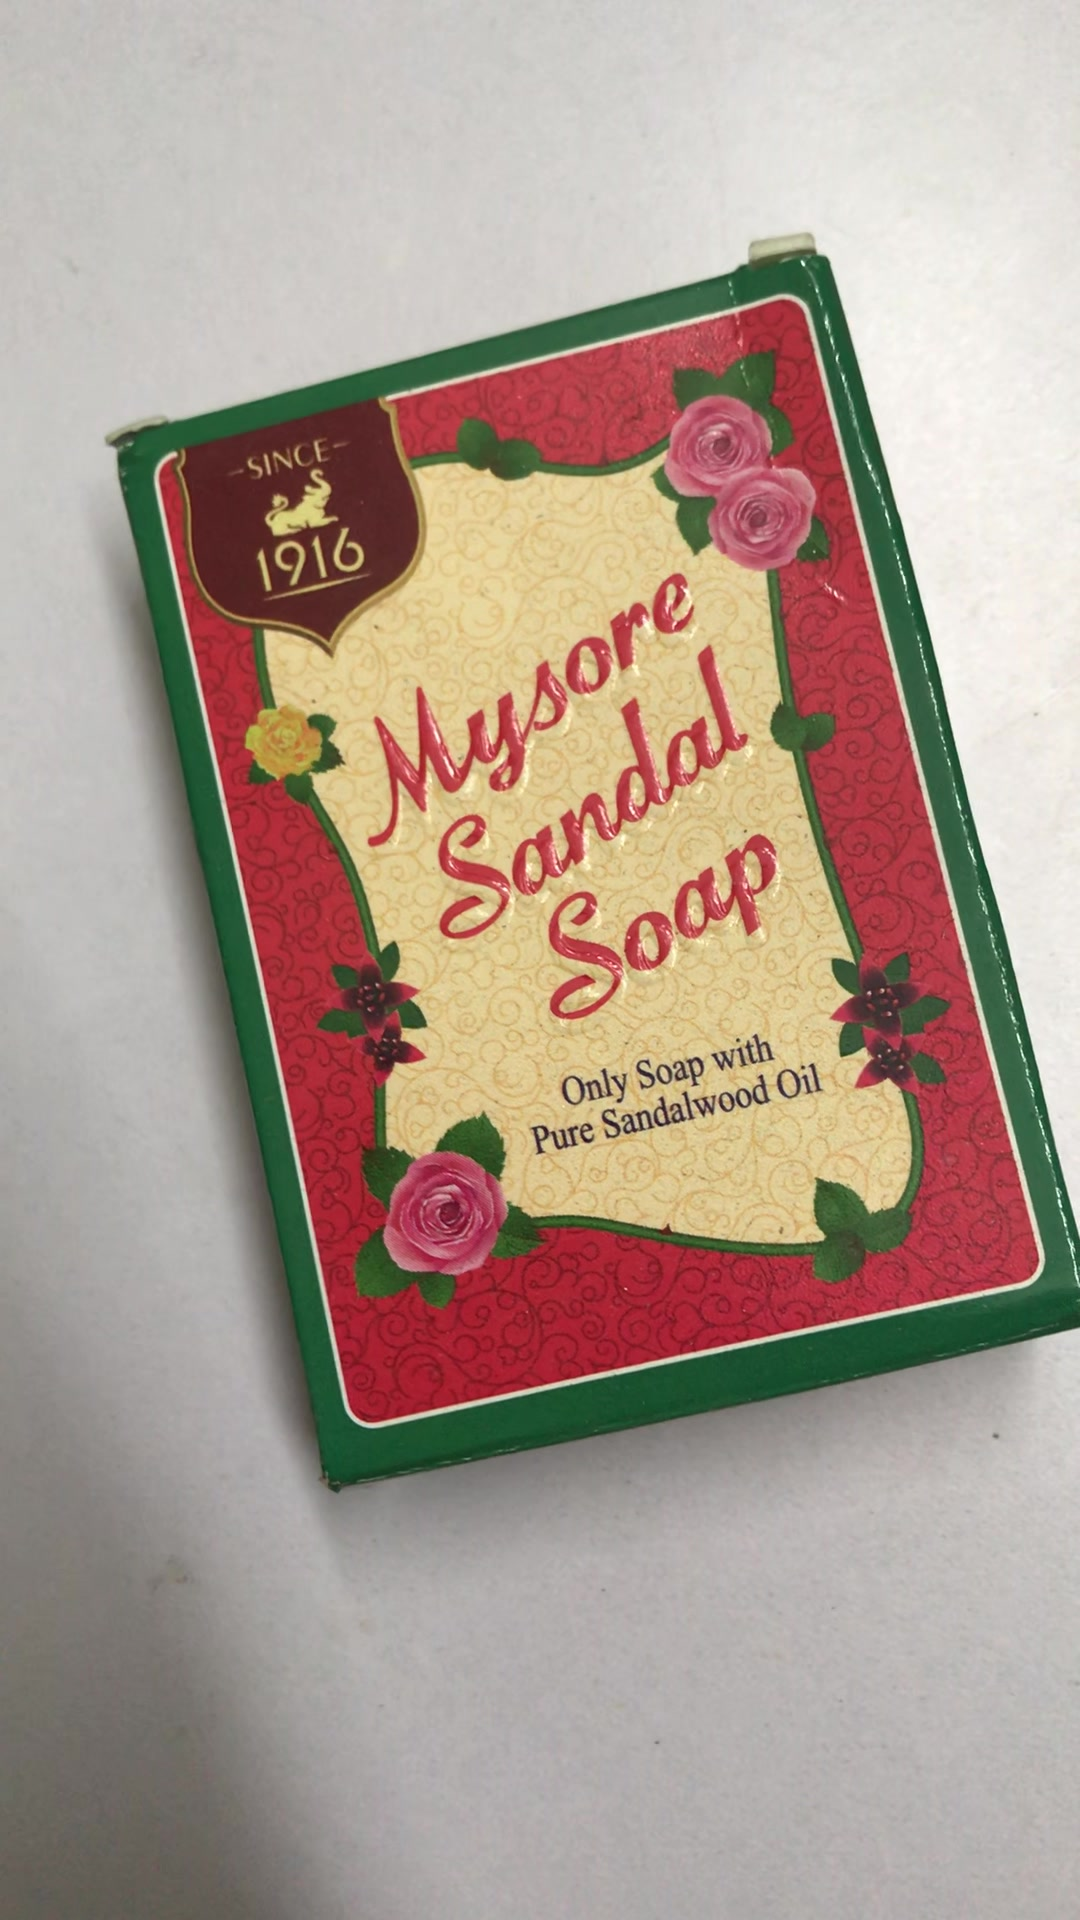mysore sandal soap: (120, 258, 1080, 1484)
